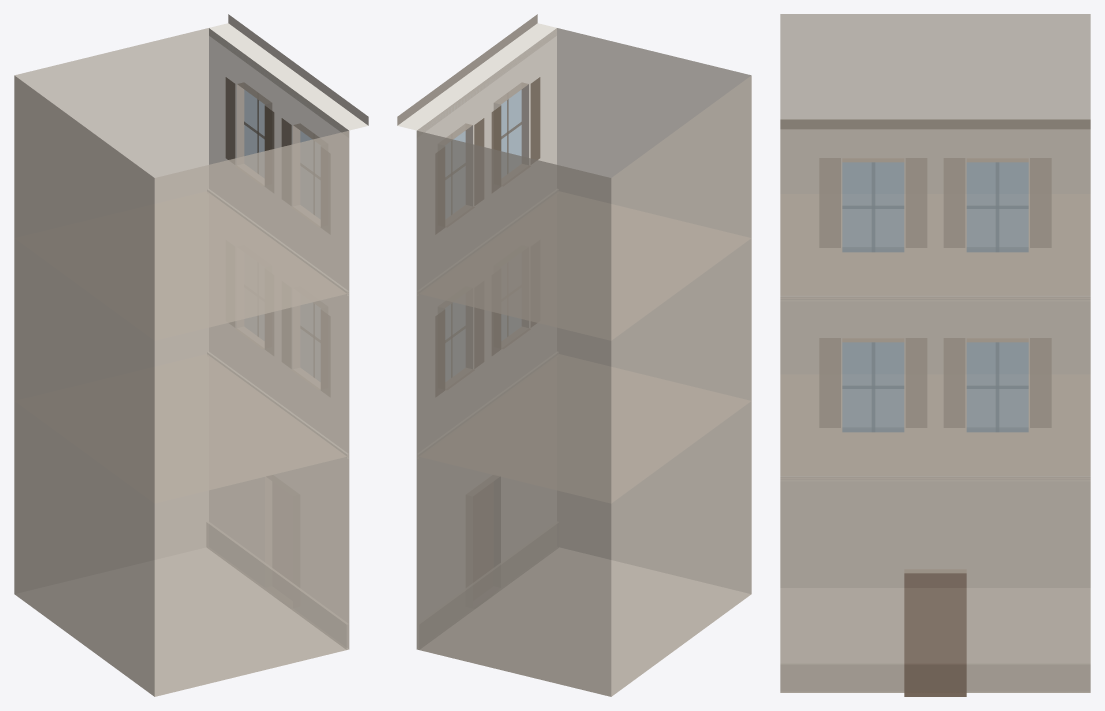
The model's file is INT-S1.glb.
The picture shows the model from 3 angles, left to right: view 1: azimuth 30°, elevation 25°; view 2: azimuth 150°, elevation 25°; view 3: azimuth 270°, elevation 25°; orthographic projection. The views are drawn at different scales.
Parts seen in each view (by area): view 1: INT-S1; view 2: INT-S1; view 3: INT-S1.
Boxes of the visible parts, x1=… form: INT-S1: x1=14, y1=14, x2=368, y2=696; INT-S1: x1=397, y1=14, x2=751, y2=696; INT-S1: x1=780, y1=14, x2=1090, y2=696.
Size of the model in its own units: 4.4 by 10.38 by 5.
